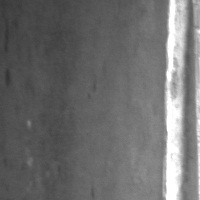scratches: (160, 1, 199, 200)
